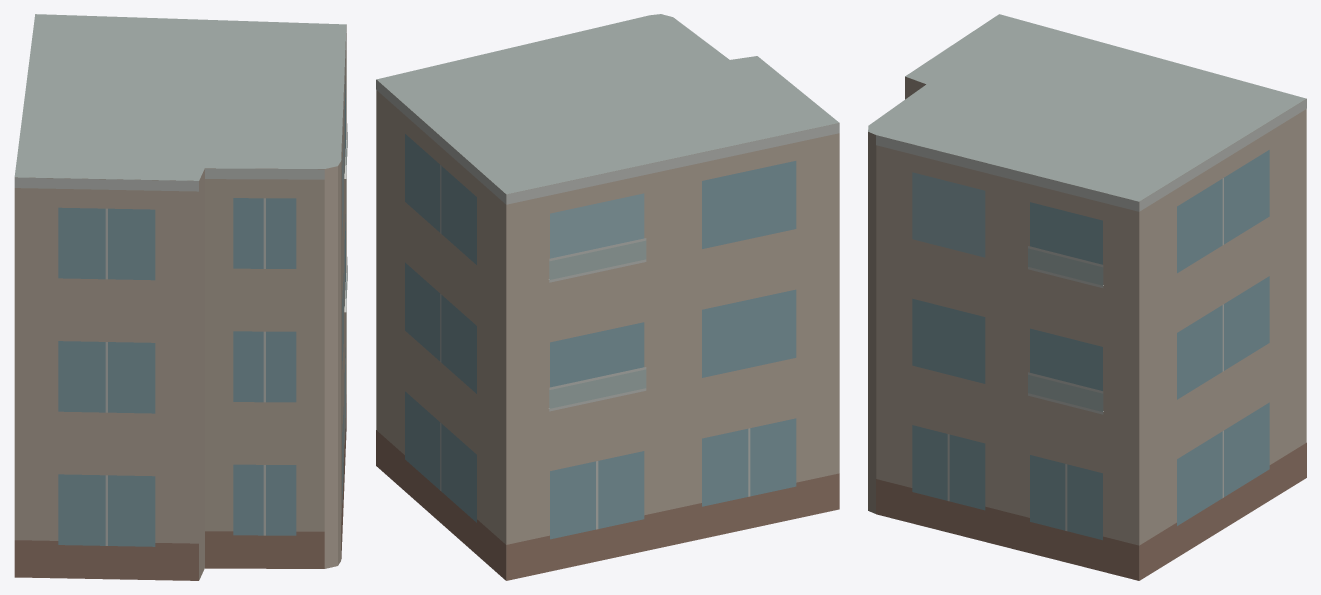
Rendered from survey-upis-32724446.glb.
The picture shows the model from 3 angles, left to right: view 1: azimuth 30°, elevation 25°; view 2: azimuth 150°, elevation 25°; view 3: azimuth 270°, elevation 25°; orthographic projection. The views are drawn at different scales.
Parts seen in each view (by area): view 1: survey-upis-32724446.tmp; view 2: survey-upis-32724446.tmp; view 3: survey-upis-32724446.tmp.
Part boxes in pixels (x1,y1,x2,y2): survey-upis-32724446.tmp: (14, 14, 347, 580); survey-upis-32724446.tmp: (376, 14, 839, 580); survey-upis-32724446.tmp: (868, 14, 1306, 580).
Size of the model in its own units: 9.72 by 9.15 by 9.6.
